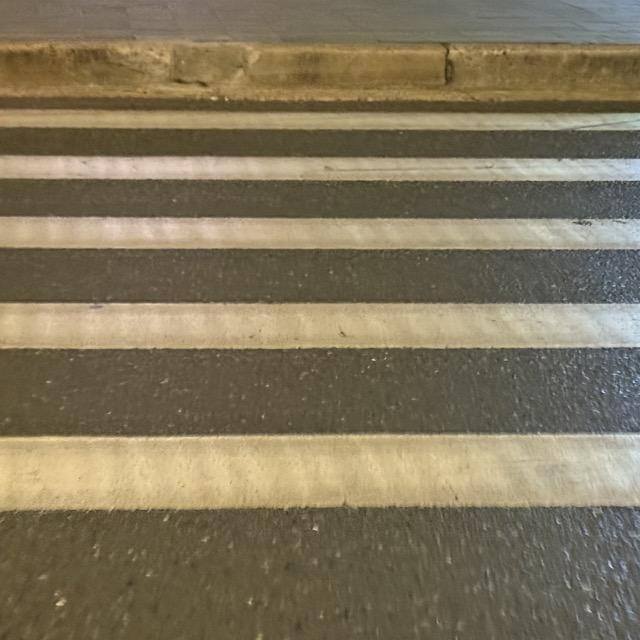curb: (0, 39, 639, 103)
